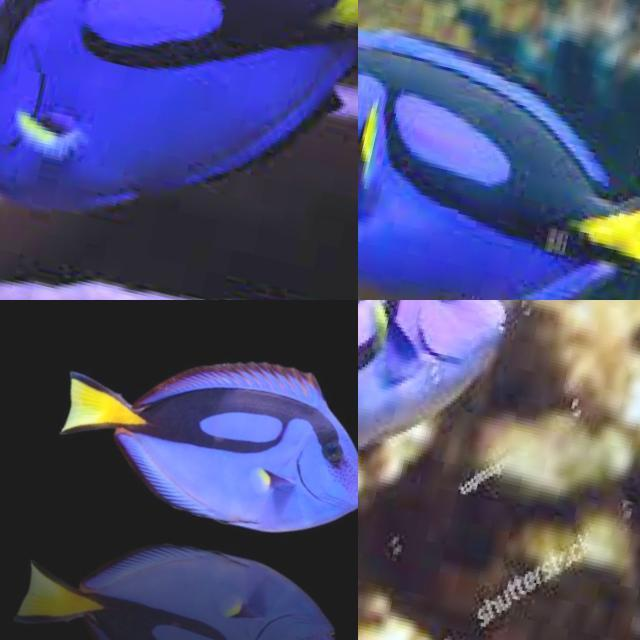BlueTang: (358, 32, 637, 300), (0, 0, 358, 206), (76, 365, 358, 521), (8, 547, 334, 640), (358, 300, 507, 445)
